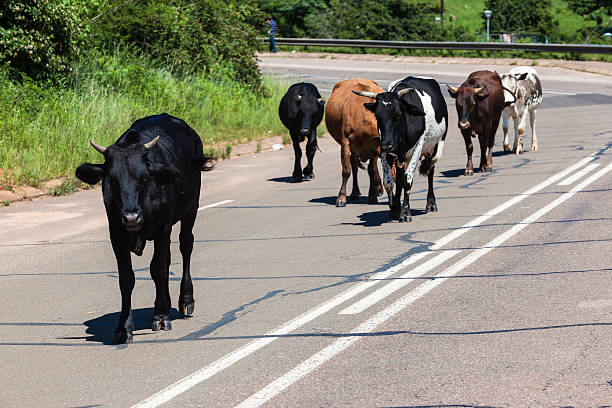inek: (78, 108, 222, 338), (374, 72, 443, 242), (327, 67, 384, 209), (450, 57, 498, 183), (495, 62, 551, 161), (274, 82, 314, 186)
